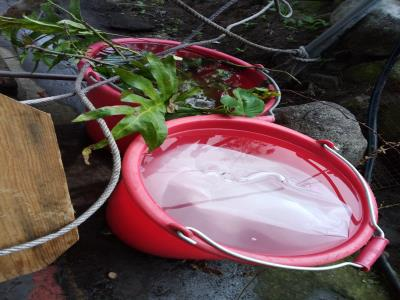bucket: (105, 111, 385, 275)
